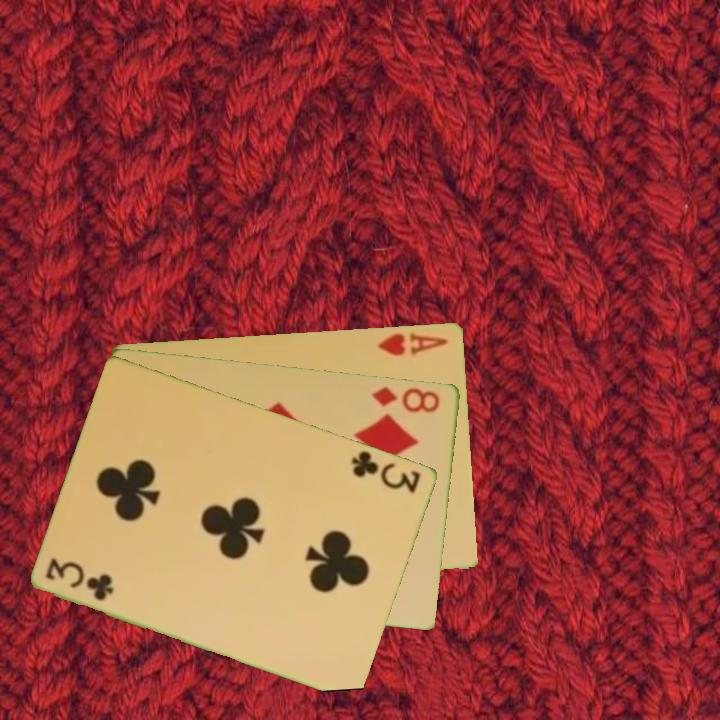3c: (348, 446, 424, 496), (42, 555, 117, 604)
8d: (368, 382, 443, 415)
Ah: (374, 329, 451, 358)
